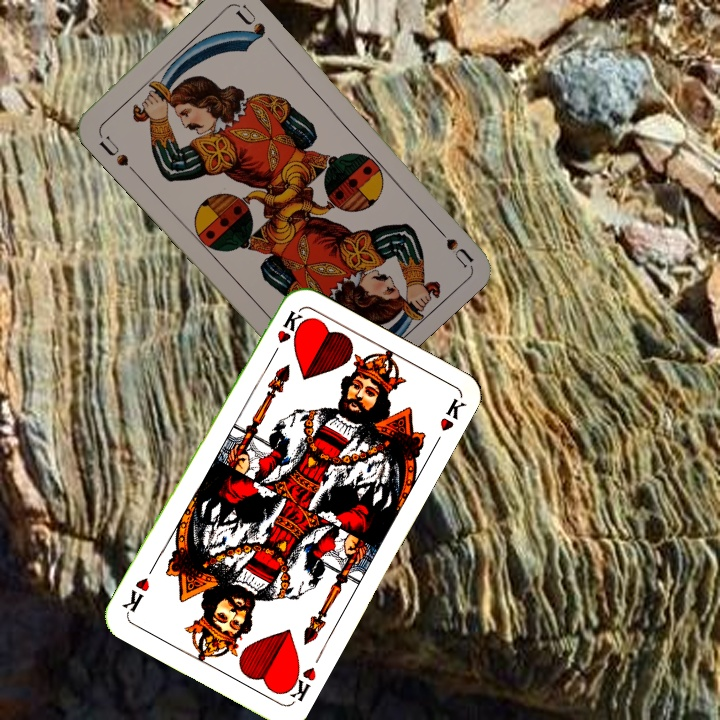HK: (266, 307, 306, 362), (279, 661, 319, 705)
SU: (427, 218, 475, 269), (95, 132, 140, 177)
